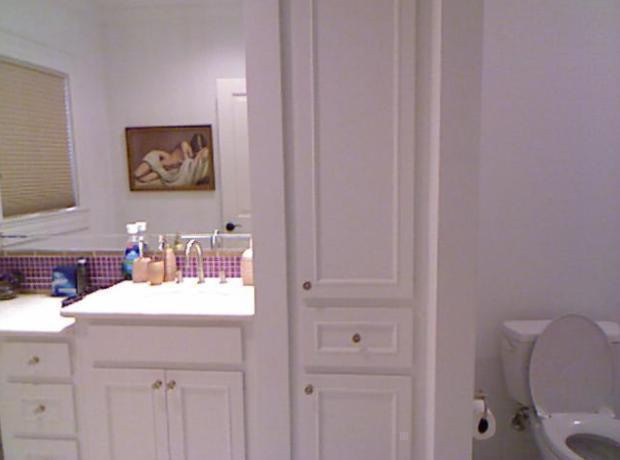Lavamanos: (84, 228, 251, 326)
Sanitario: (496, 315, 615, 457)
